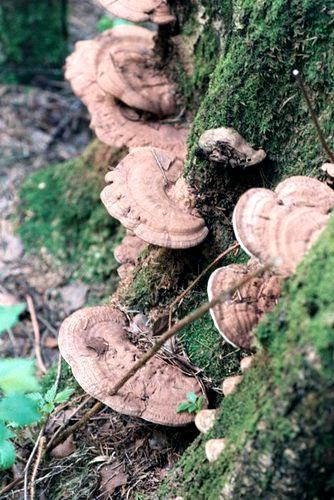Ganoderma - Fruit Body: (210, 176, 332, 354), (55, 307, 211, 425), (64, 26, 186, 144), (100, 152, 207, 247), (215, 129, 267, 167), (99, 0, 179, 22)
